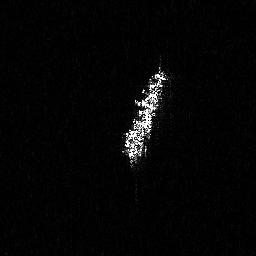ship: (117, 61, 169, 170)
